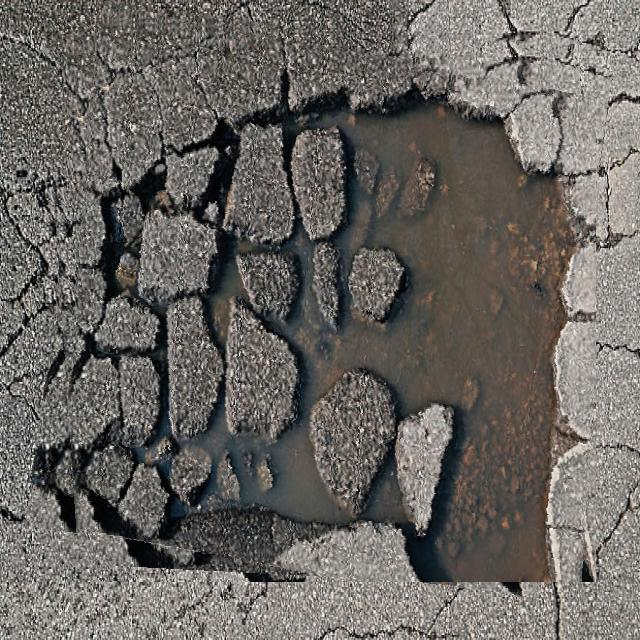Pothole: (42, 16, 596, 582)
